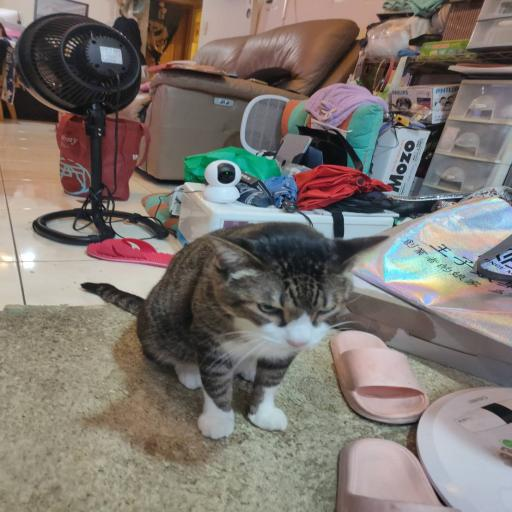cat: (138, 233, 350, 434)
